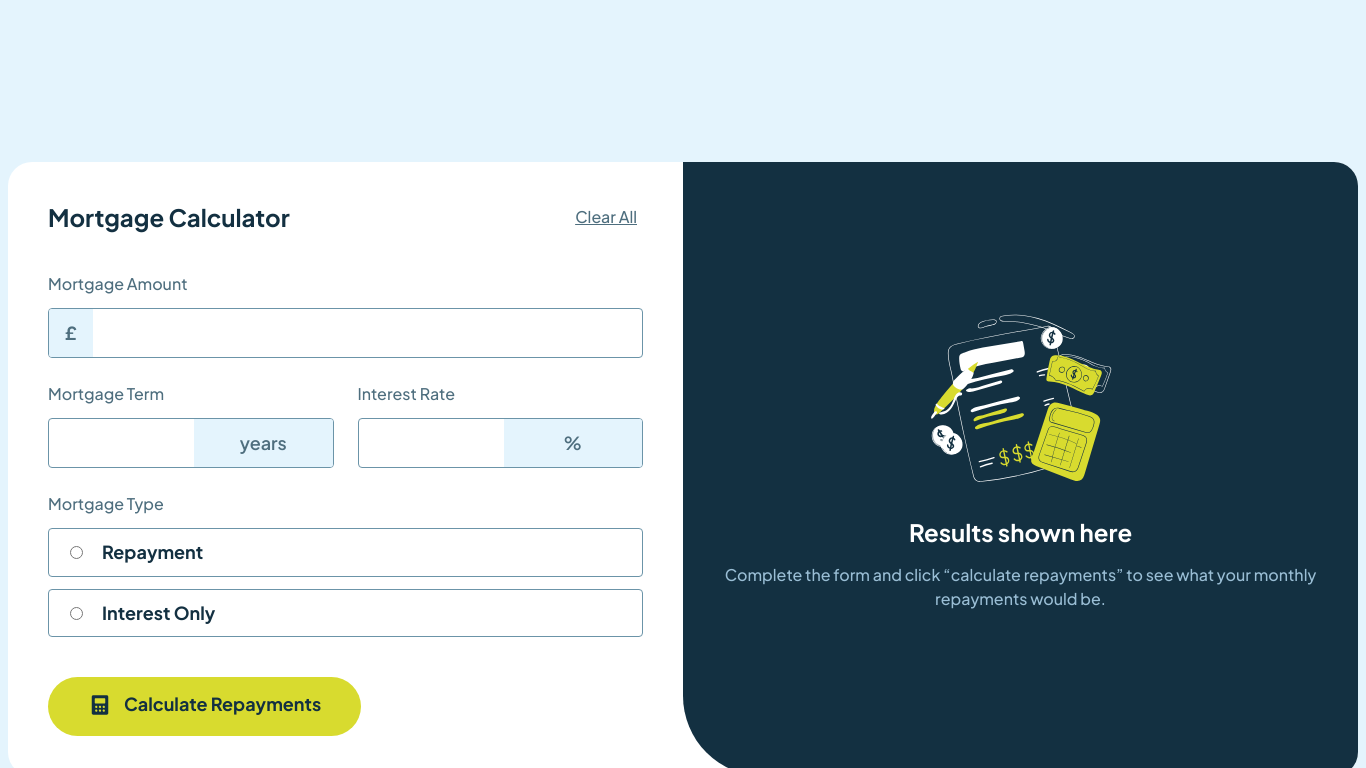
Test case: CalculatorComponent › should show error message if form is invalid
The image size is (1366, 768).
Click the button with test id "calculator-calculateButton" at (205,706), box [48,677,361,736]
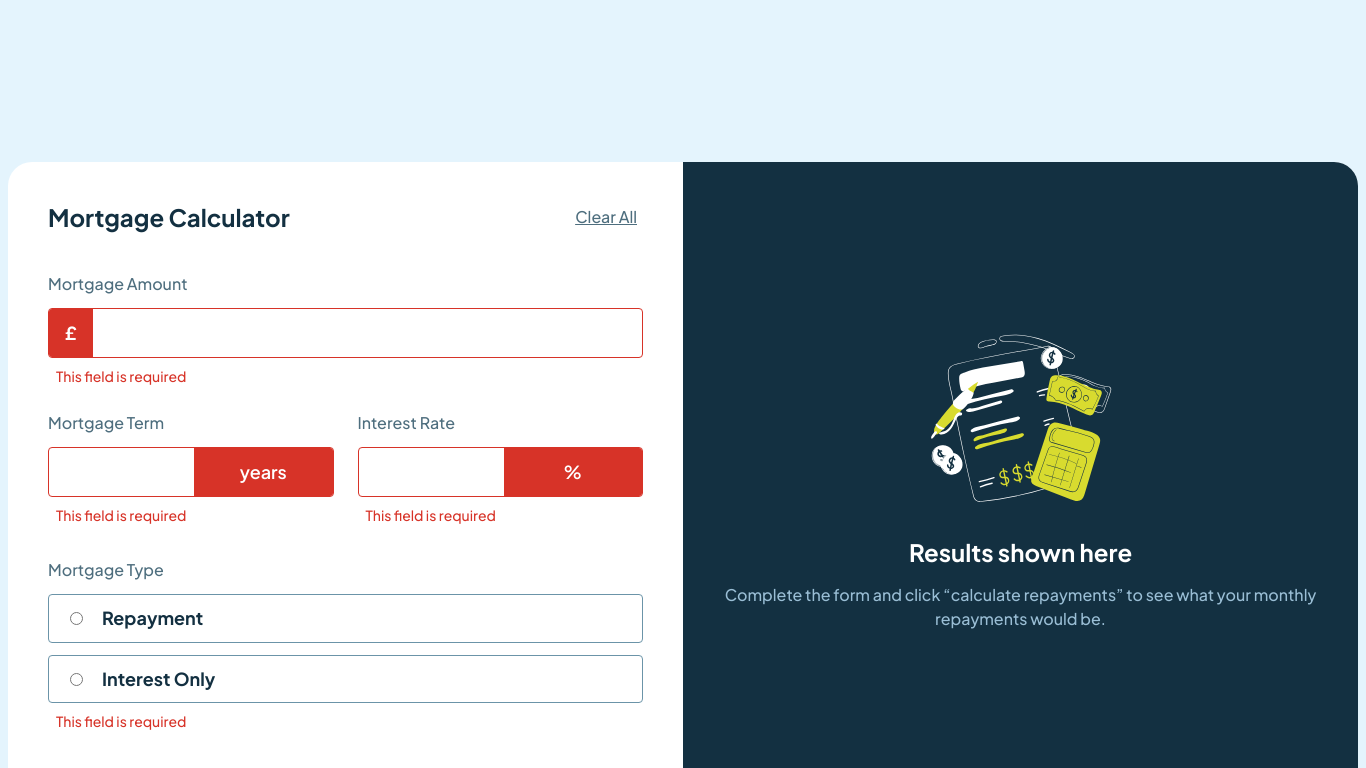
Expected: the text with test id "calculator-errorText" below "Mortgage Amount" is shown, [56,367,186,385]
Expected: the text with test id "calculator-errorText" below "years" is shown, [56,506,186,524]
Expected: the text with test id "calculator-errorText" below "Interest Rate" is shown, [366,506,496,524]
